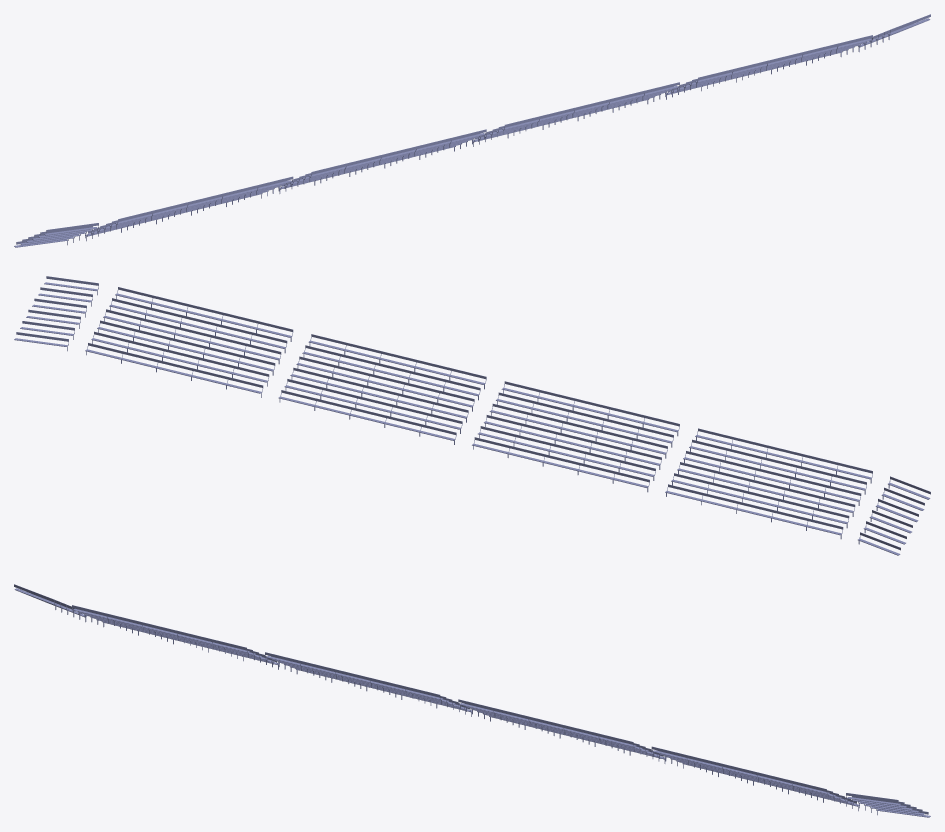
The picture shows the model from 3 angles, top to bottom: view 1: azimuth 30°, elevation 25°; view 2: azimuth 150°, elevation 25°; view 3: azimuth 330°, elevation 25°; orthographic projection.
Visible parts, largest first — view 1: bench_north; view 2: bench_north; view 3: bench_north.
Boxes of the visible parts, x1,y1,x2,y2 form: bench_north: (14, 14, 930, 247); bench_north: (14, 276, 930, 555); bench_north: (14, 584, 930, 817).
Size of the model in its own units: 68.14 by 3.32 by 5.26.
